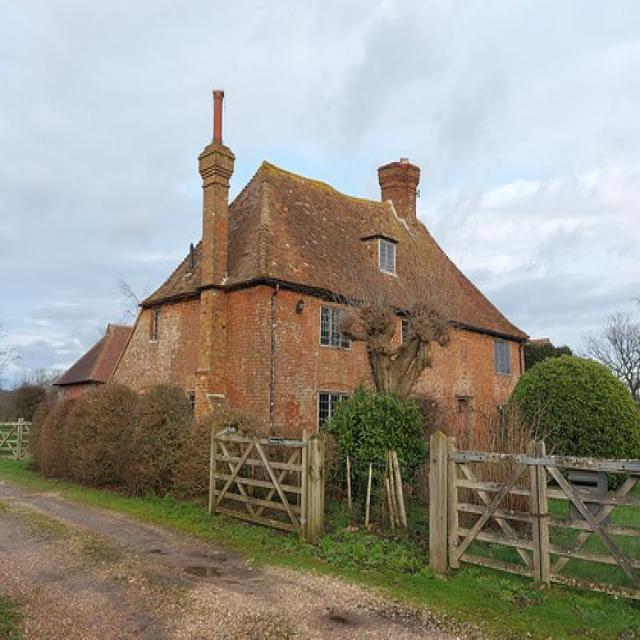building: (52, 137, 529, 549)
